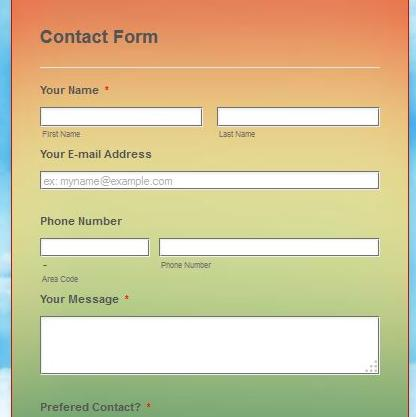field: (39, 316, 381, 376), (39, 169, 380, 189), (157, 236, 381, 258), (38, 106, 203, 127), (216, 107, 380, 127), (39, 237, 150, 256)
field_with_label: (38, 294, 382, 380), (153, 234, 384, 268), (37, 100, 204, 137), (213, 103, 379, 140)
